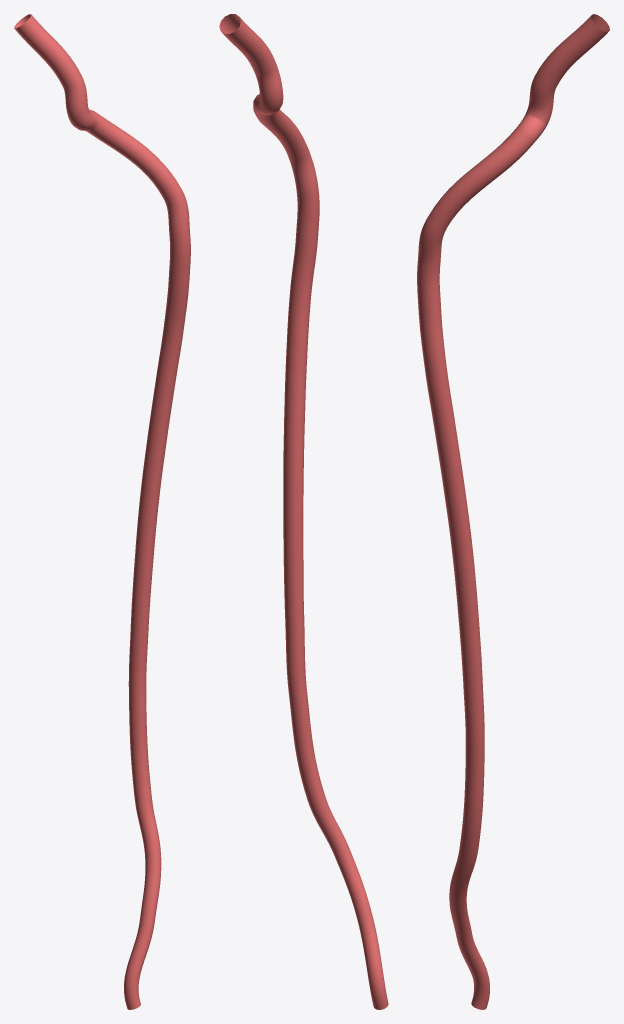
Rendered from Anterior_tibial_artery.l_BezierCurve.174.glb.
The picture shows the model from 3 angles, left to right: view 1: azimuth 90°, elevation 25°; view 2: azimuth 150°, elevation 25°; view 3: azimuth 270°, elevation 25°; orthographic projection. The views are drawn at different scales.
Visible parts, largest first — view 1: Anterior_tibial_artery.l_BezierCurve.174; view 2: Anterior_tibial_artery.l_BezierCurve.174; view 3: Anterior_tibial_artery.l_BezierCurve.174.
Boxes of the visible parts, left/top/right/bottom form: Anterior_tibial_artery.l_BezierCurve.174: left=14, top=14, right=190, bottom=1009; Anterior_tibial_artery.l_BezierCurve.174: left=219, top=14, right=388, bottom=1009; Anterior_tibial_artery.l_BezierCurve.174: left=417, top=14, right=609, bottom=1009.
Bounding box in the file's own units: 0.0412 × 0.3276 × 0.0552.
